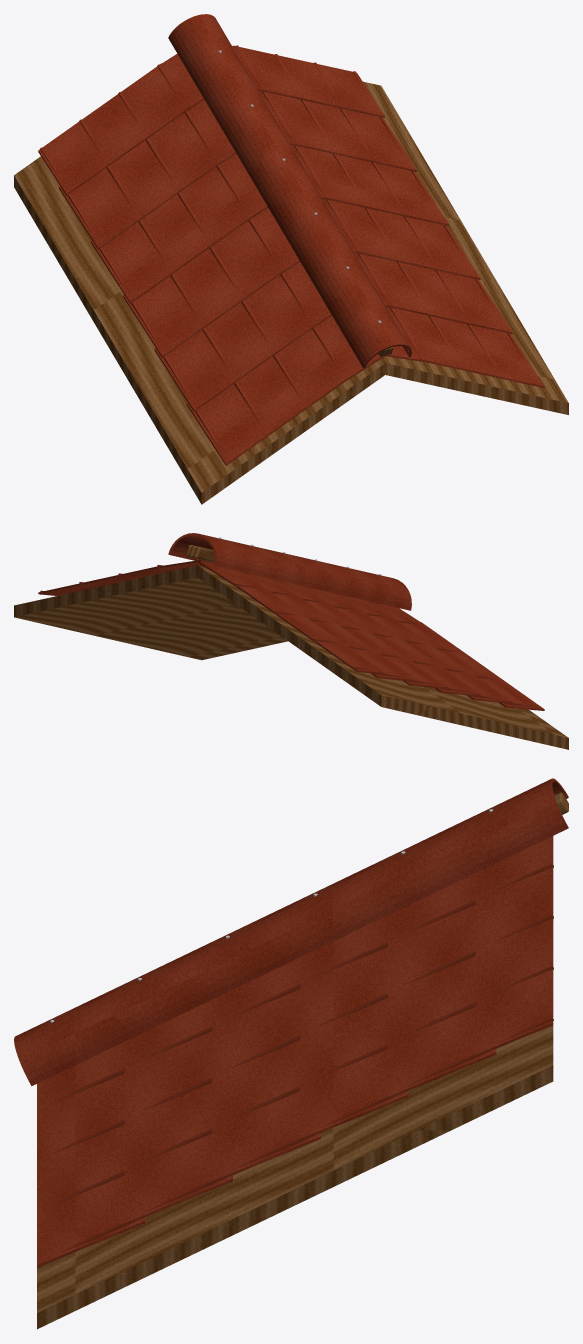
File: modell.glb
3 renders of one model, top to bottom at view 1: azimuth 30°, elevation 25°; view 2: azimuth 150°, elevation 25°; view 3: azimuth 270°, elevation 25°, orthographic. The views are drawn at different scales.
Parts seen in each view (by area): view 1: w01-ziegel_deckung, w01-walmflaeche_tragwerk, w01-gratziegel_deckung; view 2: w01-walmflaeche_tragwerk, w01-ziegel_deckung, w01-gratziegel_deckung, w01-gratlatte_lattung; view 3: w01-ziegel_deckung, w01-gratziegel_deckung, w01-walmflaeche_tragwerk.
Part boxes in pixels (box(x1,y1,x2,y2)): w01-ziegel_deckung: box(38, 45, 544, 465); w01-walmflaeche_tragwerk: box(14, 81, 568, 504); w01-gratziegel_deckung: box(168, 14, 411, 368); w01-walmflaeche_tragwerk: box(14, 565, 568, 749); w01-ziegel_deckung: box(38, 558, 544, 710); w01-gratziegel_deckung: box(168, 533, 411, 610); w01-gratlatte_lattung: box(186, 545, 214, 562); w01-ziegel_deckung: box(37, 836, 553, 1267); w01-gratziegel_deckung: box(14, 778, 568, 1085); w01-walmflaeche_tragwerk: box(37, 1025, 553, 1329).
Size of the model in its own units: 2.26 by 1.81 by 2.15.
Materials: 3 (2 with a texture image).
